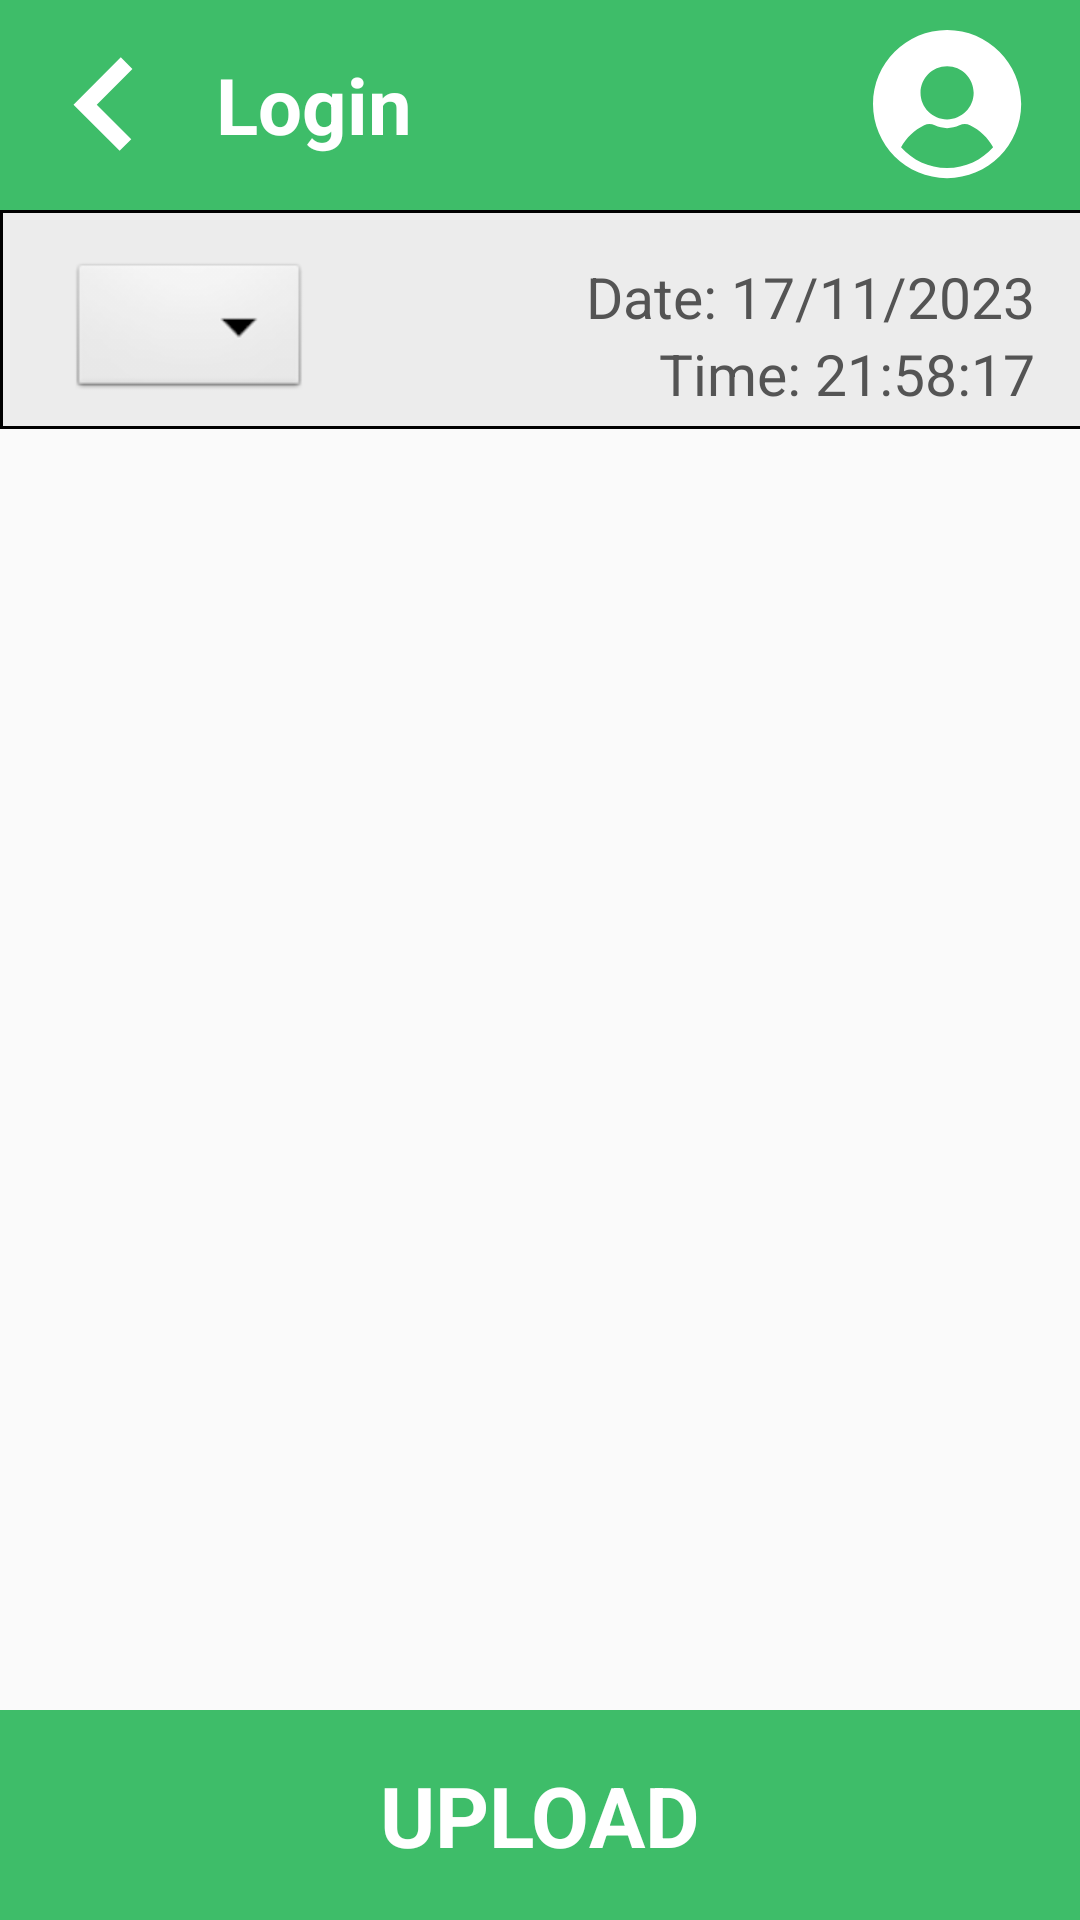

Point at icon controls on the screen. Image size 1080w x 1920h, points as (x=x, y=y).
back: (x=102, y=104)
